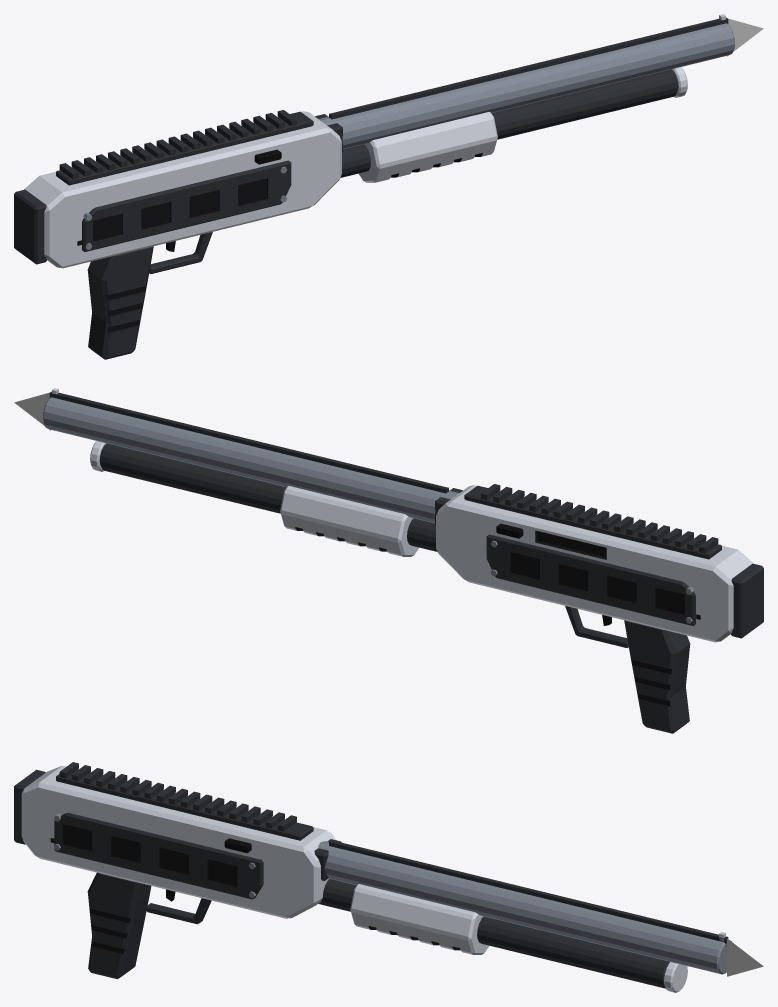
Rendered from shotgun42.obj.
3 views of the same model, one above another, from view 1: azimuth 30°, elevation 25°; view 2: azimuth 150°, elevation 25°; view 3: azimuth 330°, elevation 25° (orthographic).
Visible parts, largest first — view 1: body, barrel, pump; view 2: body, barrel, pump; view 3: body, barrel, pump, muzzle_0.
Boxes of the visible parts, x1,y1,x2,y2 form: body: (14, 110, 342, 359); barrel: (319, 14, 734, 177); pump: (359, 112, 497, 182); body: (435, 484, 763, 733); barrel: (43, 388, 458, 551); pump: (280, 486, 418, 556); body: (14, 762, 341, 979); barrel: (318, 840, 731, 992); pump: (350, 884, 489, 954); muzzle_0: (727, 938, 763, 976).
Bounding box in the file's own units: 0.6716 × 0.1675 × 0.054.
